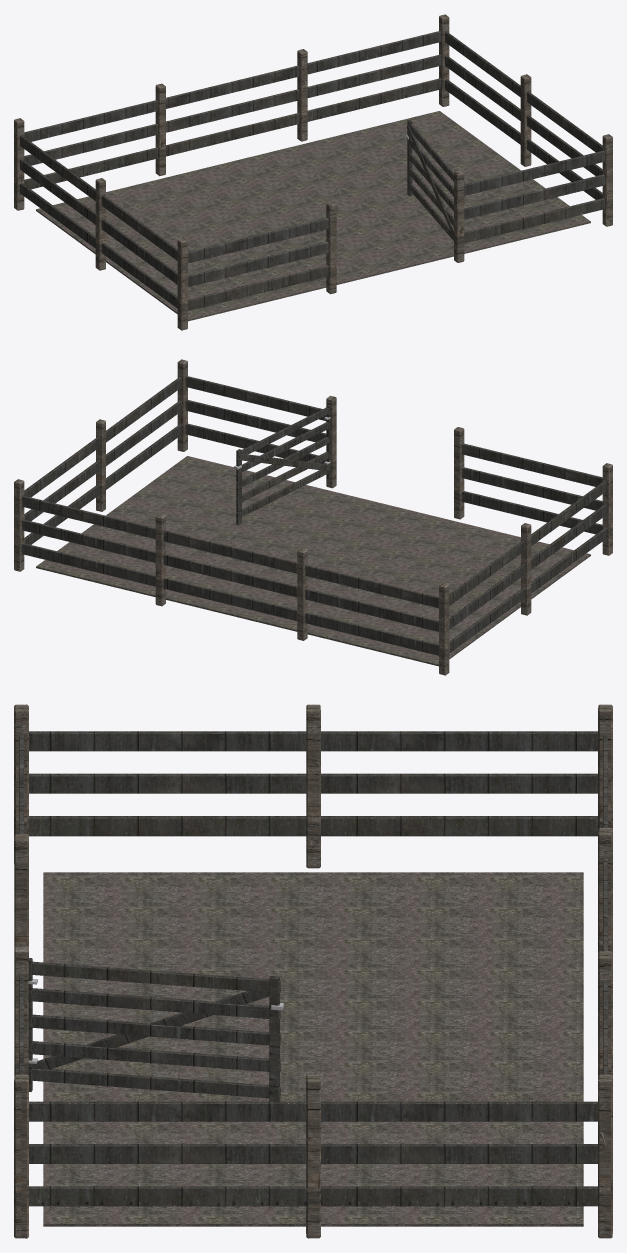
Rendered from night_pen_a_open.glb.
3 views of the same model, one above another, from view 1: azimuth 30°, elevation 25°; view 2: azimuth 150°, elevation 25°; view 3: azimuth 270°, elevation 25° (orthographic). The views are drawn at different scales.
Parts seen in each view (by area): view 1: night_pen_a_open_straw, night_pen_a_open_panel_back, night_pen_a_open_panel_right, night_pen_a_open_panel_left, night_pen_a_open_panel_front_l, night_pen_a_open_panel_front_r, night_pen_a_open_gate; view 2: night_pen_a_open_straw, night_pen_a_open_panel_back, night_pen_a_open_panel_right, night_pen_a_open_panel_left, night_pen_a_open_panel_front_r, night_pen_a_open_panel_front_l, night_pen_a_open_gate; view 3: night_pen_a_open_straw, night_pen_a_open_panel_left, night_pen_a_open_panel_right, night_pen_a_open_gate, night_pen_a_open_panel_back, night_pen_a_open_panel_front_l, night_pen_a_open_panel_front_r.
Boxes of the visible parts, x1=… form: night_pen_a_open_straw: x1=36, y1=111, x2=590, y2=321; night_pen_a_open_panel_back: x1=14, y1=14, x2=448, y2=210; night_pen_a_open_panel_right: x1=15, y1=120, x2=187, y2=330; night_pen_a_open_panel_left: x1=439, y1=14, x2=611, y2=226; night_pen_a_open_panel_front_l: x1=454, y1=134, x2=612, y2=262; night_pen_a_open_panel_front_r: x1=177, y1=201, x2=336, y2=330; night_pen_a_open_gate: x1=406, y1=120, x2=453, y2=240; night_pen_a_open_straw: x1=36, y1=456, x2=590, y2=666; night_pen_a_open_panel_back: x1=14, y1=479, x2=448, y2=675; night_pen_a_open_panel_right: x1=439, y1=463, x2=612, y2=675; night_pen_a_open_panel_left: x1=14, y1=360, x2=186, y2=571; night_pen_a_open_panel_front_r: x1=454, y1=427, x2=611, y2=555; night_pen_a_open_panel_front_l: x1=177, y1=359, x2=336, y2=488; night_pen_a_open_gate: x1=234, y1=404, x2=330, y2=525; night_pen_a_open_straw: x1=43, y1=872, x2=583, y2=1226; night_pen_a_open_panel_left: x1=14, y1=1074, x2=612, y2=1238; night_pen_a_open_panel_right: x1=14, y1=704, x2=612, y2=868; night_pen_a_open_gate: x1=28, y1=958, x2=283, y2=1101; night_pen_a_open_panel_back: x1=598, y1=704, x2=612, y2=1238; night_pen_a_open_panel_front_l: x1=14, y1=945, x2=28, y2=1238; night_pen_a_open_panel_front_r: x1=14, y1=704, x2=28, y2=945.
Size of what is drawn, in the model's own units: 6.1 by 1.2 by 4.1.
Materials: 4 (3 with a texture image).
